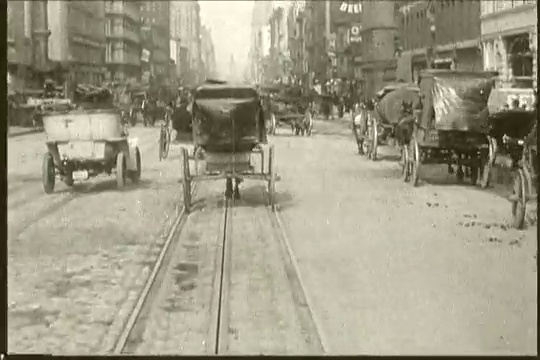car: (32, 96, 145, 201)
carriage: (171, 80, 283, 222), (387, 67, 499, 189), (342, 82, 421, 165), (502, 90, 540, 239), (257, 79, 319, 141)
